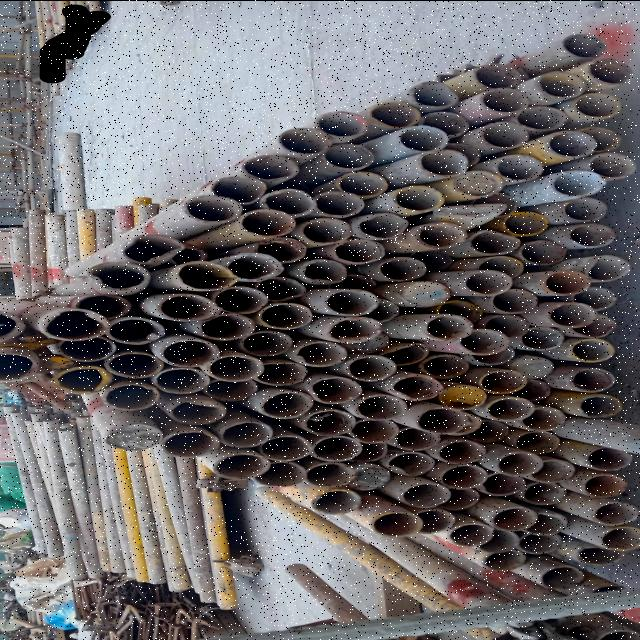pipe: (41, 308, 110, 340), (84, 260, 151, 290), (174, 260, 240, 290), (52, 364, 114, 395), (118, 234, 186, 262), (223, 252, 285, 282), (102, 316, 166, 345), (180, 195, 243, 223), (162, 338, 220, 368), (260, 187, 318, 217), (156, 293, 218, 321), (100, 351, 164, 378), (104, 422, 162, 451), (206, 354, 266, 382), (238, 208, 298, 236), (260, 390, 316, 420), (170, 396, 228, 424), (309, 190, 367, 218), (210, 452, 270, 479), (240, 153, 300, 180), (322, 288, 379, 316), (213, 285, 269, 313), (414, 220, 470, 248), (198, 313, 256, 340), (210, 175, 268, 202), (219, 420, 274, 448), (416, 147, 471, 175), (59, 335, 118, 361), (102, 384, 158, 411), (162, 430, 218, 457), (154, 367, 210, 394), (258, 301, 312, 329), (388, 374, 444, 401), (544, 130, 598, 158), (252, 360, 310, 386), (275, 127, 333, 153), (408, 78, 458, 108), (316, 144, 378, 168), (254, 236, 306, 264), (356, 211, 408, 239), (459, 327, 511, 355), (550, 170, 606, 196), (492, 154, 544, 182), (478, 120, 530, 148), (392, 184, 445, 211), (326, 317, 381, 343), (366, 100, 421, 126), (416, 407, 471, 433), (76, 294, 135, 318), (304, 408, 356, 435), (301, 216, 353, 243), (336, 172, 390, 198), (261, 434, 311, 462), (312, 376, 362, 404), (464, 268, 514, 296), (420, 314, 476, 339), (240, 330, 293, 356), (310, 434, 363, 460), (398, 482, 451, 508), (397, 125, 448, 152), (0, 350, 43, 382), (203, 377, 260, 401), (306, 461, 358, 487), (334, 237, 386, 263), (315, 110, 367, 136), (377, 254, 429, 280), (354, 394, 406, 420), (547, 301, 599, 327), (472, 62, 524, 88), (517, 104, 569, 130), (534, 70, 586, 96), (434, 200, 509, 218), (251, 462, 307, 486), (467, 229, 523, 253), (415, 111, 471, 135), (311, 489, 362, 515), (296, 341, 348, 366), (400, 280, 450, 306), (346, 355, 396, 381), (372, 511, 424, 536), (488, 288, 538, 314), (518, 238, 568, 264), (480, 86, 530, 112), (418, 354, 472, 378), (347, 418, 401, 442), (582, 254, 630, 281), (437, 383, 486, 409), (519, 480, 568, 506), (393, 426, 443, 451), (497, 451, 547, 476), (378, 342, 430, 366), (486, 396, 534, 422), (514, 531, 566, 555), (518, 405, 566, 431), (570, 337, 618, 363), (518, 324, 566, 350), (570, 312, 618, 338), (588, 151, 636, 177), (574, 91, 622, 117), (543, 269, 590, 295), (254, 276, 304, 300), (297, 259, 347, 283), (440, 464, 488, 489), (438, 439, 488, 463), (592, 502, 640, 527), (568, 368, 618, 392), (480, 368, 526, 394), (586, 57, 632, 83), (349, 462, 391, 490), (481, 314, 530, 338), (476, 254, 524, 278), (480, 471, 528, 495), (528, 458, 576, 482), (576, 394, 624, 418), (569, 286, 617, 310), (568, 222, 616, 246), (586, 446, 632, 471), (524, 510, 568, 536), (576, 125, 620, 151), (388, 452, 435, 476), (508, 354, 555, 378), (471, 192, 518, 216), (407, 248, 453, 272), (356, 298, 402, 322), (494, 507, 540, 531), (540, 564, 586, 588), (502, 211, 548, 235), (562, 197, 610, 220), (434, 300, 484, 322), (448, 522, 493, 546), (515, 430, 561, 453), (584, 473, 628, 497), (328, 273, 378, 294), (414, 509, 456, 534), (576, 546, 628, 566), (436, 486, 481, 509), (484, 549, 528, 572), (477, 528, 521, 551), (469, 419, 512, 442), (0, 310, 29, 344), (507, 378, 551, 400), (560, 38, 608, 58), (470, 344, 517, 364), (446, 411, 482, 437), (350, 440, 390, 463), (603, 526, 639, 551), (441, 142, 480, 165), (169, 242, 213, 262), (592, 628, 639, 640)
